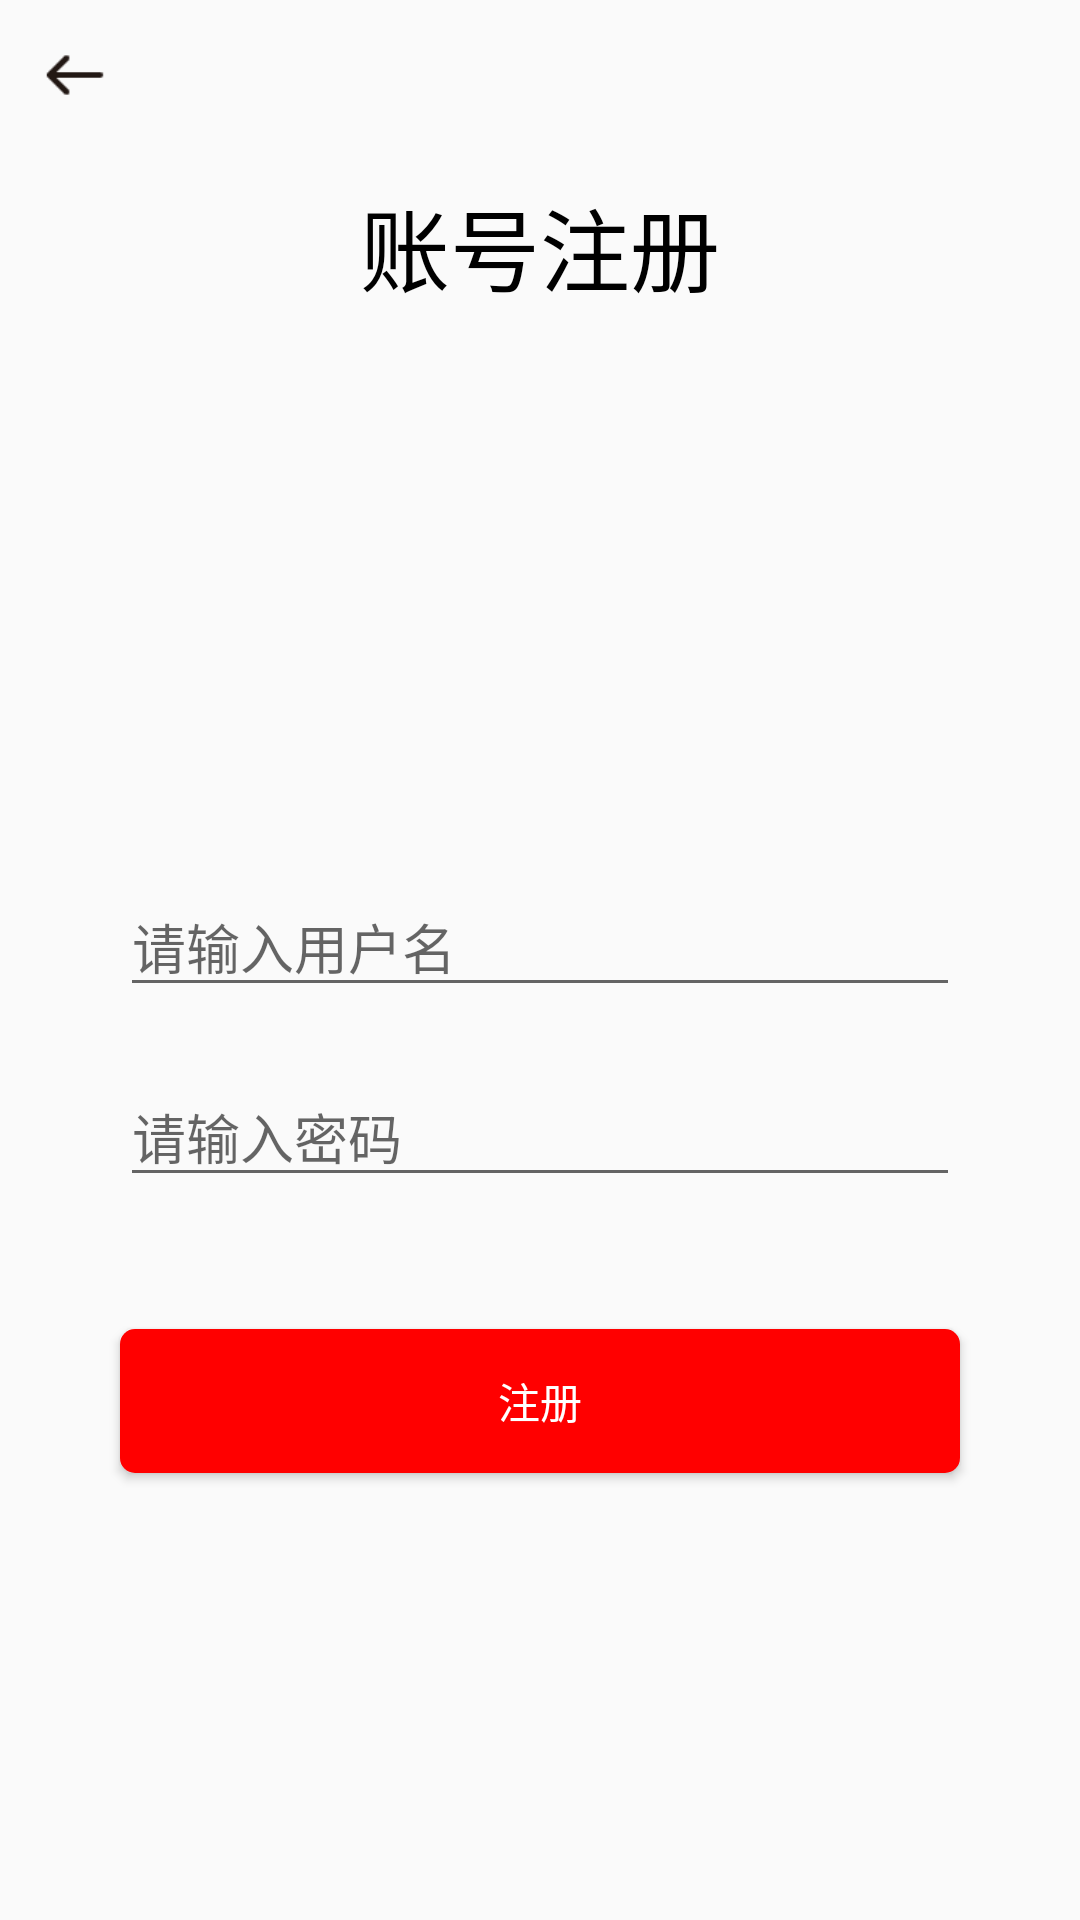

Named icons in this screenshot (1080x1920) and their centers, (x=x, y=y):
arrow back: (x=75, y=75)
